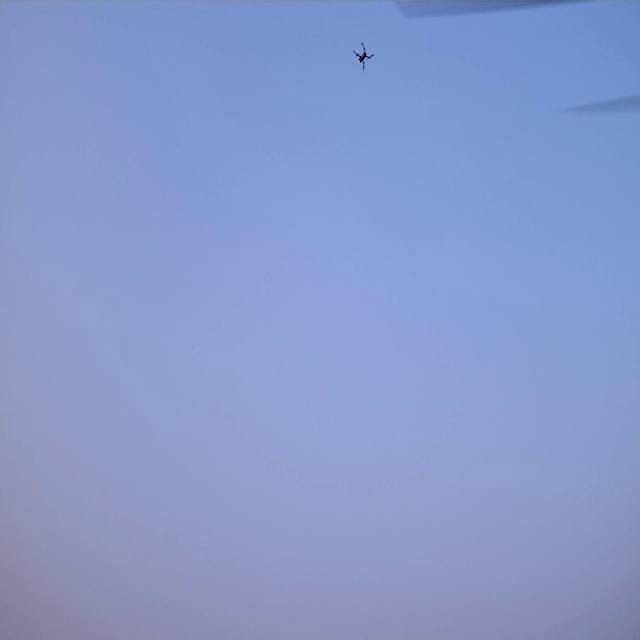UAV: (355, 44, 372, 68)
